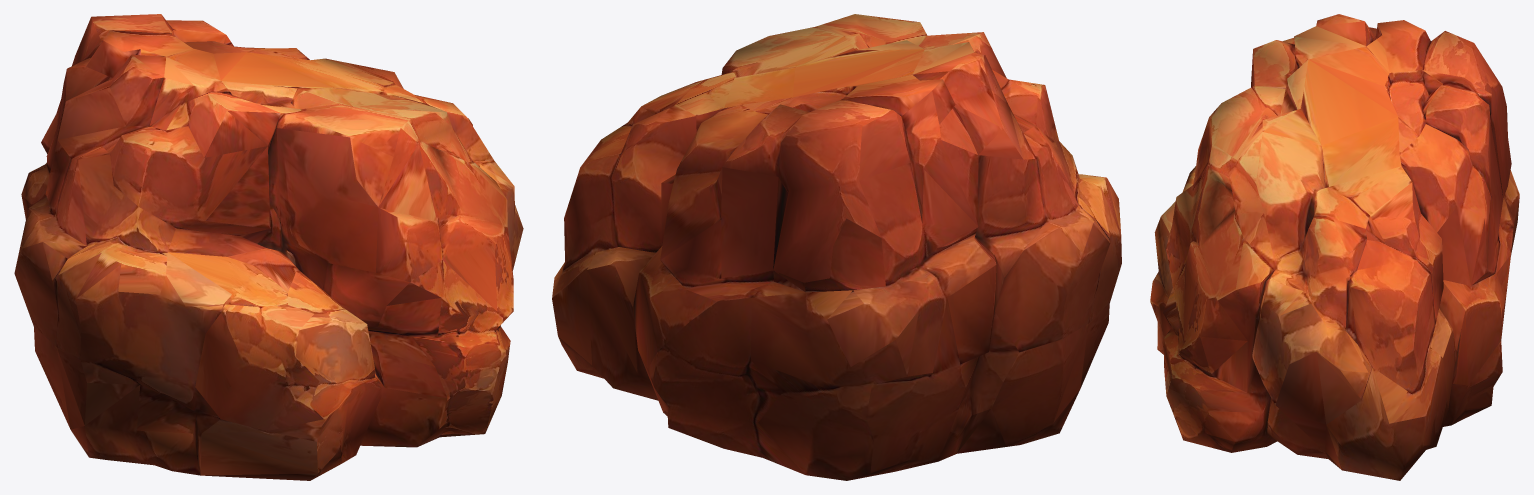
File: rock.glb
3 views of the same model, side by side, from view 1: azimuth 30°, elevation 25°; view 2: azimuth 150°, elevation 25°; view 3: azimuth 270°, elevation 25° (orthographic). The views are drawn at different scales.
Parts seen in each view (by area): view 1: TripoRock_Mesh; view 2: TripoRock_Mesh; view 3: TripoRock_Mesh.
Part boxes in pixels (left/top/right/bottom): TripoRock_Mesh: left=14, top=14, right=523, bottom=480; TripoRock_Mesh: left=552, top=14, right=1121, bottom=480; TripoRock_Mesh: left=1150, top=14, right=1519, bottom=480.
Bounding box in the file's own units: 1.2 × 0.85 × 0.9.
1 material, 1 textured.
